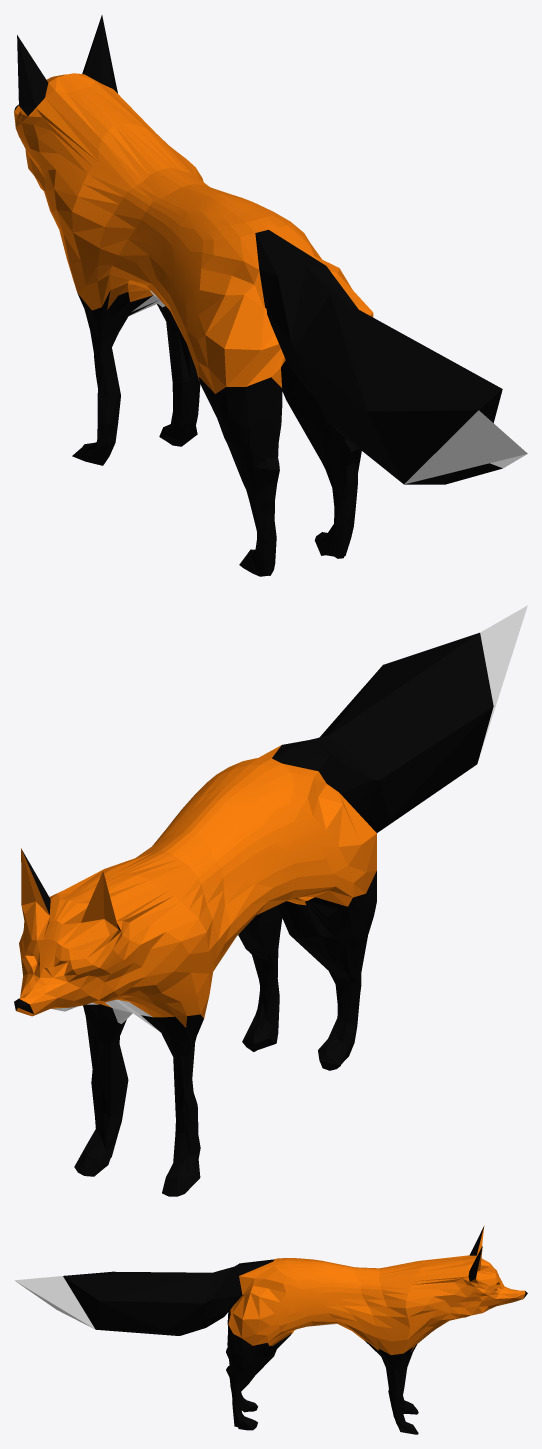
File: Fox_low_poly.obj
3 renders of one model, top to bottom at view 1: azimuth 30°, elevation 25°; view 2: azimuth 150°, elevation 25°; view 3: azimuth 270°, elevation 25°, orthographic. The views are drawn at different scales.
Visible parts, largest first — view 1: Lox_lod_0; view 2: Lox_lod_0; view 3: Lox_lod_0.
Part boxes in pixels (x1,y1,x2,y2): Lox_lod_0: [14, 15, 527, 576]; Lox_lod_0: [14, 605, 527, 1196]; Lox_lod_0: [14, 1226, 527, 1434].
Size of the model in its own units: 132 by 305 by 756.
